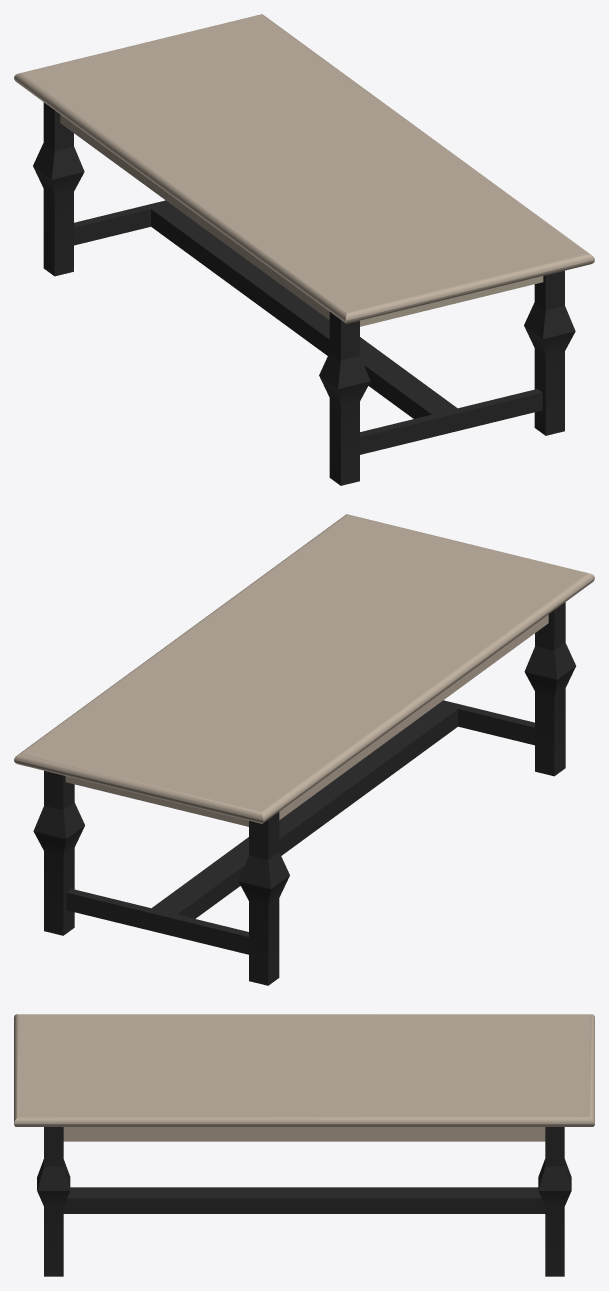
The model's file is GrandeTable_73.fbx.
3 views of the same model, one above another, from view 1: azimuth 30°, elevation 25°; view 2: azimuth 150°, elevation 25°; view 3: azimuth 270°, elevation 25° (orthographic). The views are drawn at different scales.
Visible parts, largest first — view 1: pCube105, pCube107, polySurface28, polySurface29, polySurface31; view 2: pCube105, pCube107, polySurface29, polySurface28, polySurface30; view 3: pCube105, pCube107, polySurface31, polySurface30.
Boxes of the visible parts, <box> form: pCube105: <box>14,14,594,326</box>; pCube107: <box>74,200,542,454</box>; polySurface28: <box>319,312,370,485</box>; polySurface29: <box>33,102,84,276</box>; polySurface31: <box>524,270,575,435</box>; pCube105: <box>14,514,594,826</box>; pCube107: <box>66,700,534,954</box>; polySurface29: <box>238,812,289,985</box>; polySurface28: <box>524,602,575,776</box>; polySurface30: <box>33,770,84,935</box>; pCube105: <box>14,1014,594,1141</box>; pCube107: <box>63,1187,545,1213</box>; polySurface31: <box>37,1127,70,1276</box>; polySurface30: <box>538,1127,571,1276</box>.
Size of the model in its own units: 56.13 by 40.09 by 129.
